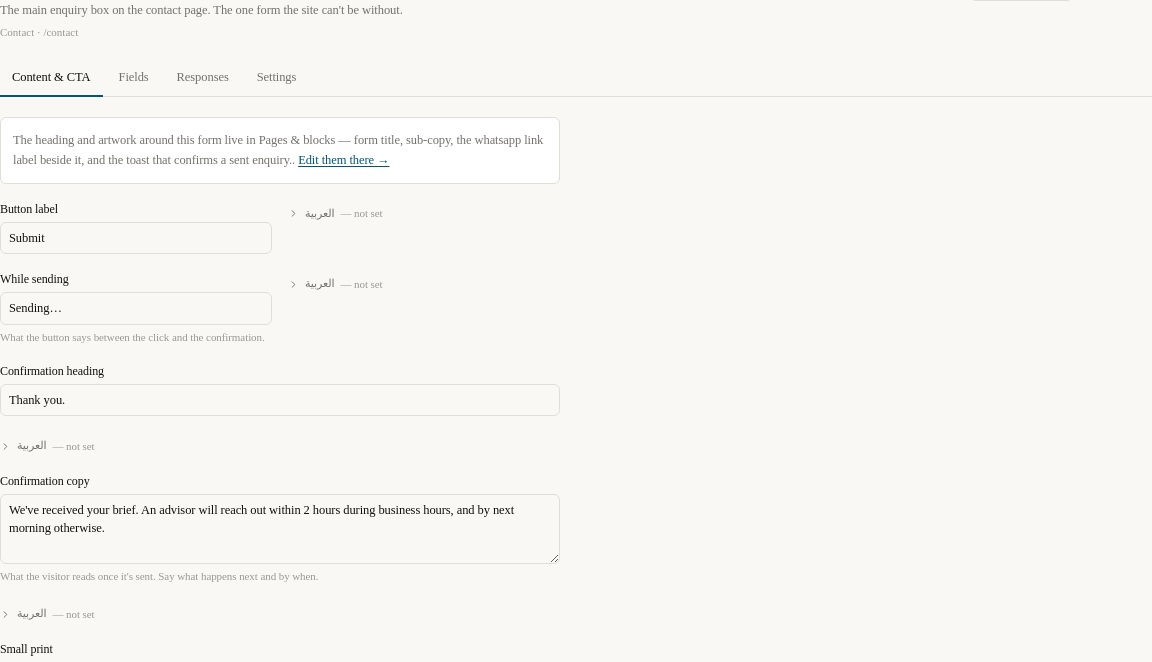
it: option labels › offers an Arabic twin for every option
Click the button "Fields" at (134, 79), box x1=106 y1=60 x2=161 y2=97
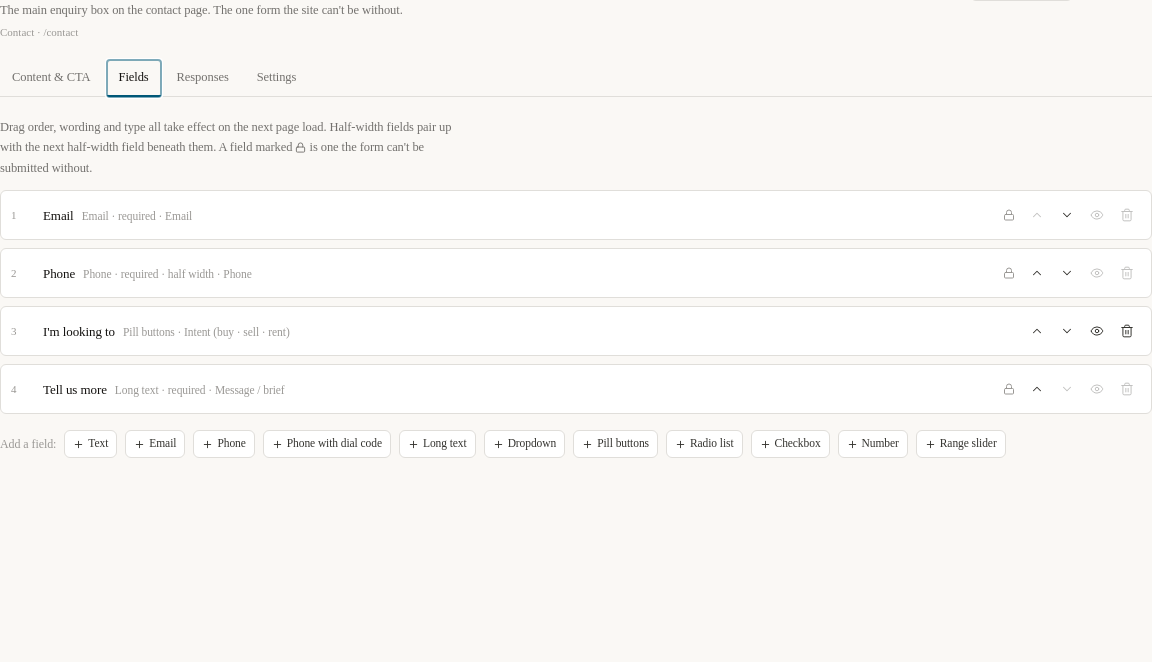
Click the text "I'm looking to" at (79, 332), box x1=43 y1=324 x2=115 y2=339
(page scrolled)
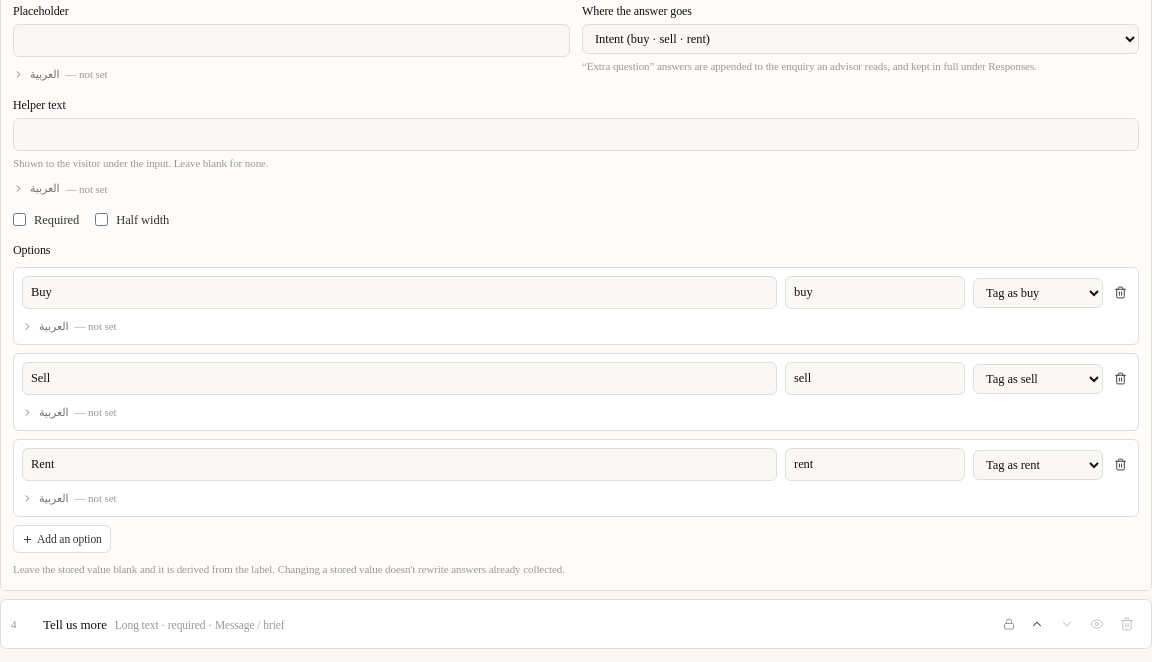
Now the 4th button "العربية — not set" is shown, box x1=22 y1=317 x2=117 y2=336
Now the 5th button "العربية — not set" is shown, box x1=22 y1=403 x2=117 y2=422
Now the 6th button "العربية — not set" is shown, box x1=22 y1=489 x2=117 y2=508
